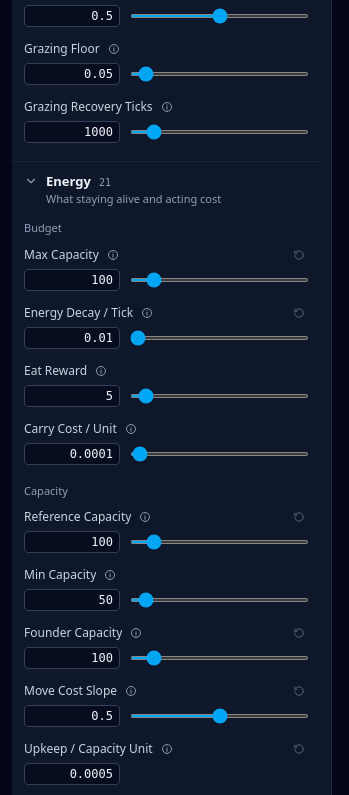
Test: ConfigPanel › renders a rejected field under its own row and clears it on the next Apply
(page scrolled)
Replace the text in the number field with test id "config-field-energy-costs-eat-reward-per-food" with "7.5" at (72, 396), box top-left (24, 385), bottom-right (120, 407)
(page scrolled)
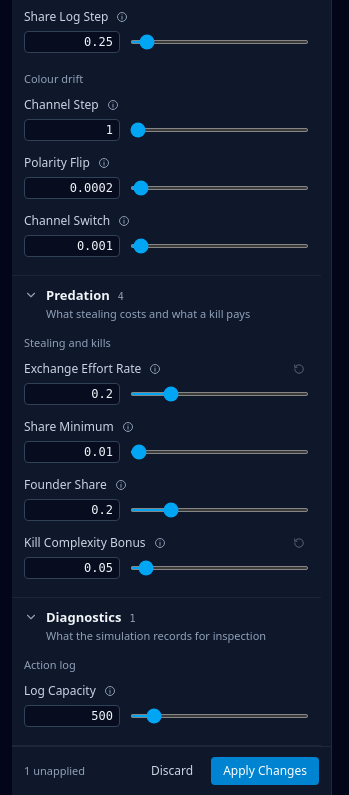
Click the button "Apply Changes" at (265, 771), box top-left (211, 757), bottom-right (319, 785)
(page scrolled)
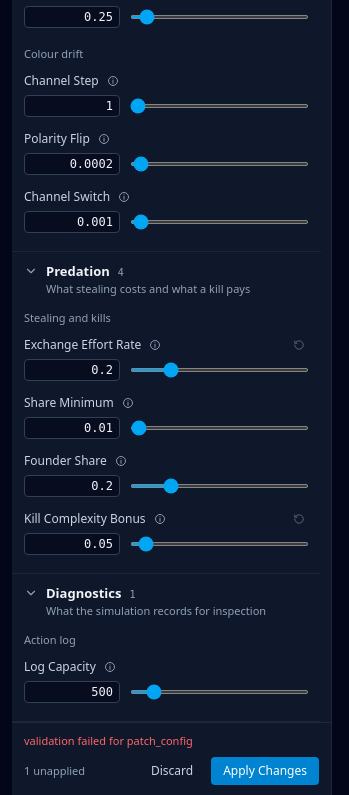
Now the message with test id "config-error" reads "validation failed for patch_config", box top-left (24, 733), bottom-right (193, 748)
Click the button "Apply Changes" at (265, 771), box top-left (211, 757), bottom-right (319, 785)
(page scrolled)
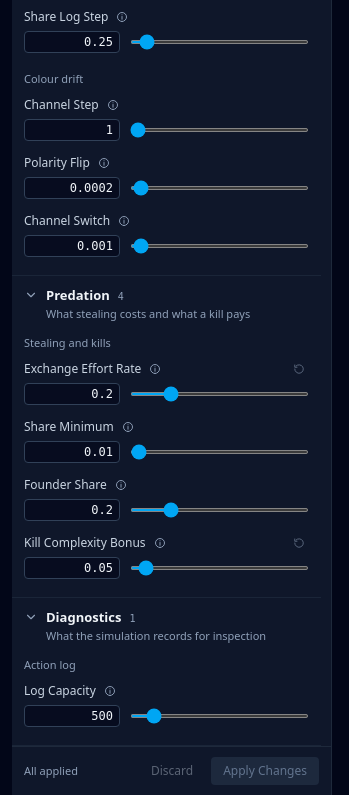
Now the message with test id "config-error" is gone
